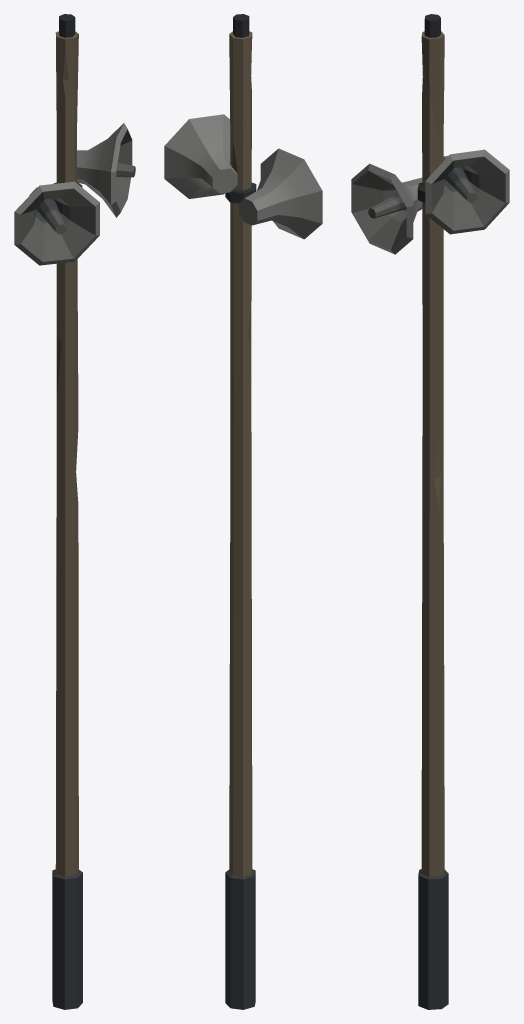
The model's file is SM_Prop_SpeakerPole_01.glb.
The picture shows the model from 3 angles, left to right: view 1: azimuth 30°, elevation 25°; view 2: azimuth 150°, elevation 25°; view 3: azimuth 330°, elevation 25°; orthographic projection.
Parts seen in each view (by area): view 1: SM_Prop_SpeakerPole_01; view 2: SM_Prop_SpeakerPole_01; view 3: SM_Prop_SpeakerPole_01.
Boxes of the visible parts, box(x1,y1,x2,y2) form: SM_Prop_SpeakerPole_01: box(14, 14, 135, 1009); SM_Prop_SpeakerPole_01: box(164, 14, 322, 1009); SM_Prop_SpeakerPole_01: box(351, 14, 509, 1009).
Size of the model in its own units: 1.34 by 9.22 by 0.7435.
1 material, 1 textured.
